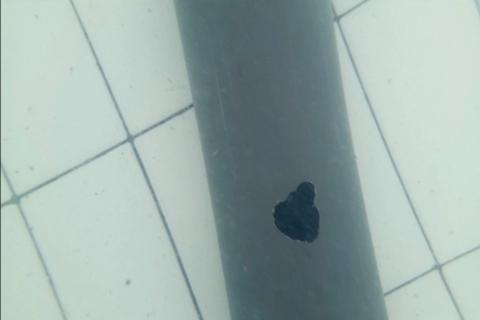kebocoran: (270, 178, 322, 244)
